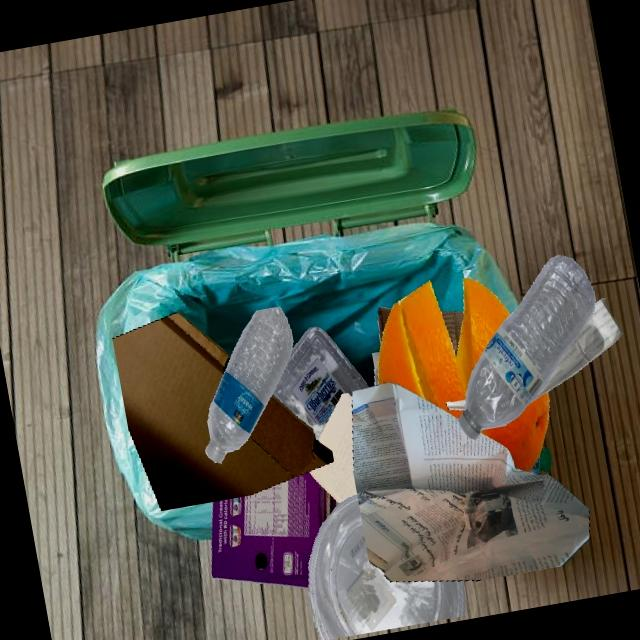biowaste: (377, 278, 510, 418), (480, 391, 549, 472)
cardboard: (112, 311, 333, 510), (211, 471, 339, 588), (440, 310, 463, 357), (377, 306, 391, 346)
glass: (372, 351, 379, 385)
paper: (352, 382, 589, 581), (529, 297, 622, 403), (308, 392, 357, 503)
plastic: (457, 254, 595, 439), (308, 494, 465, 640), (205, 306, 292, 463), (272, 326, 368, 440), (528, 447, 551, 473)
